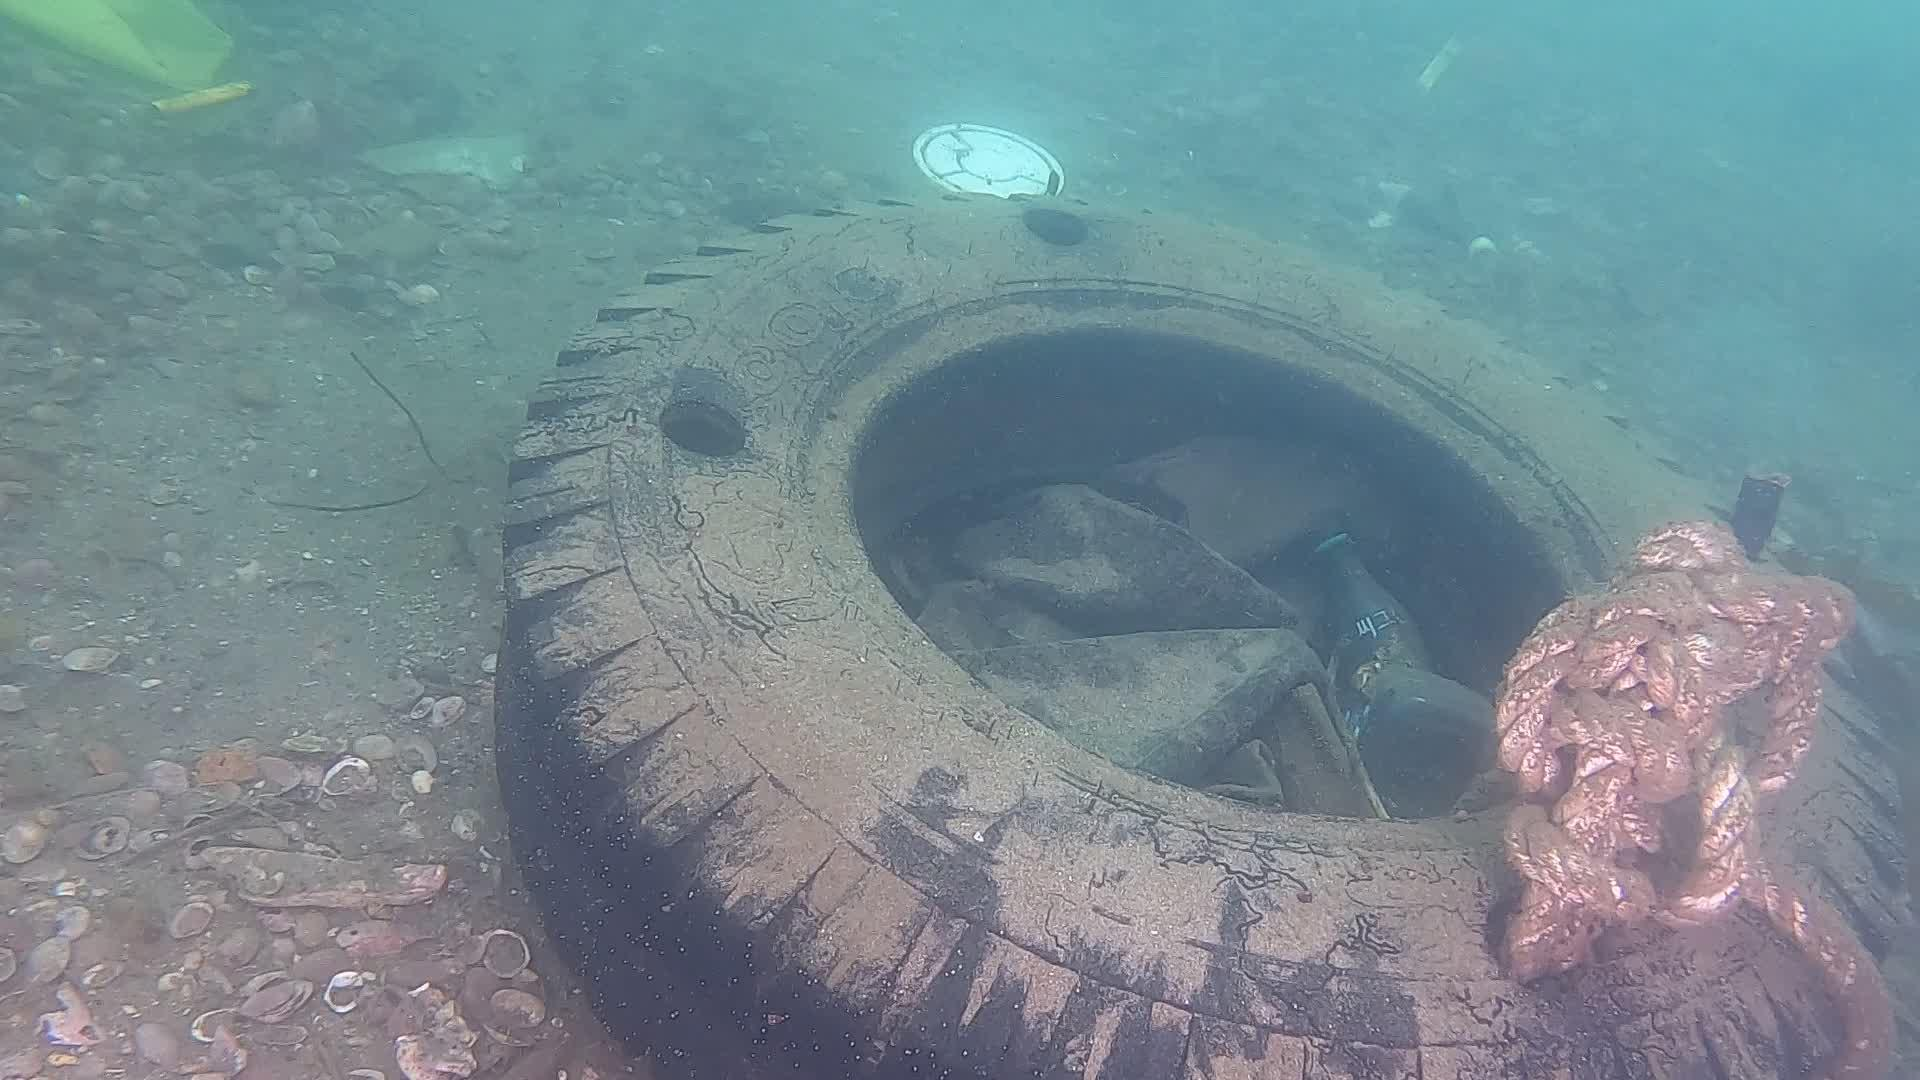bundle of ropes: (1487, 502, 1905, 1080)
tire: (491, 185, 1912, 1080)
